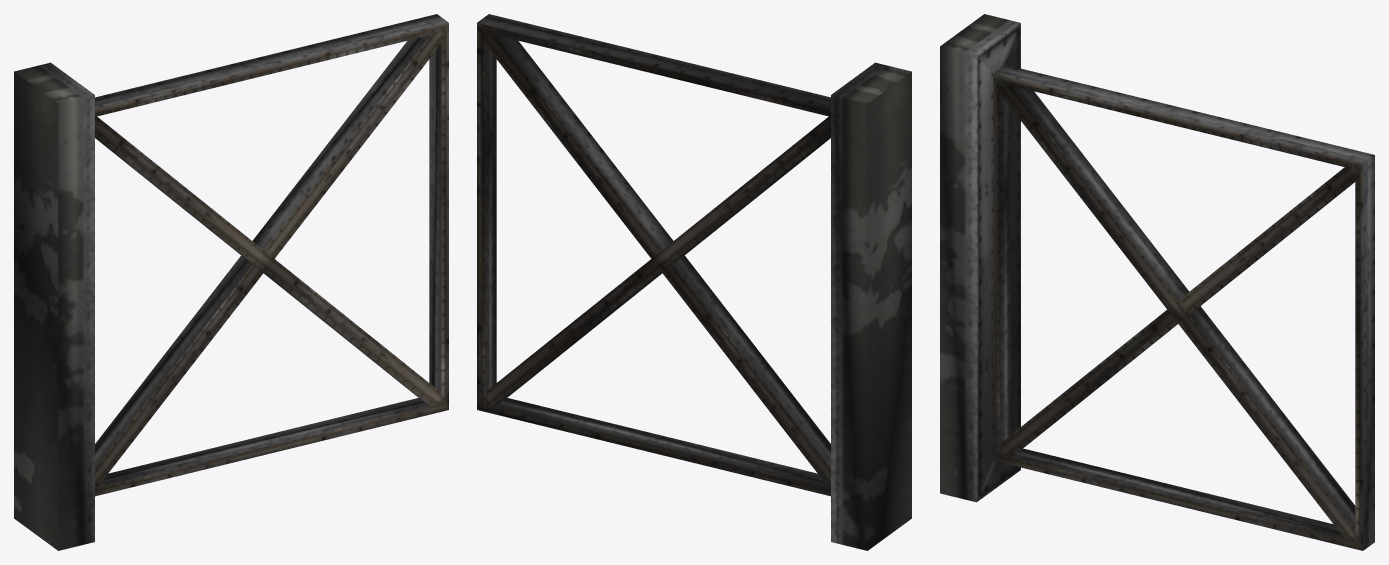
File: Holder03.fbx
3 renders of one model, left to right at view 1: azimuth 30°, elevation 25°; view 2: azimuth 150°, elevation 25°; view 3: azimuth 330°, elevation 25°, orthographic.
Visible parts, largest first — view 1: Holder03; view 2: Holder03; view 3: Holder03.
Part boxes in pixels (x1,y1,x2,y2): Holder03: (14, 14, 448, 550); Holder03: (477, 14, 911, 550); Holder03: (940, 14, 1374, 550).
Bounding box in the file's own units: 2.2 × 2.31 × 0.4144.
